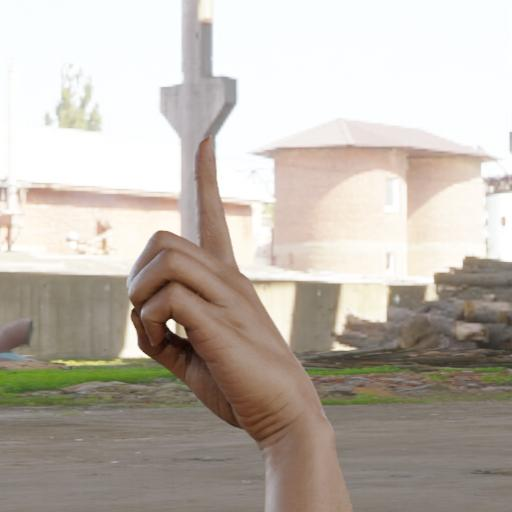D: (120, 131, 329, 461)
